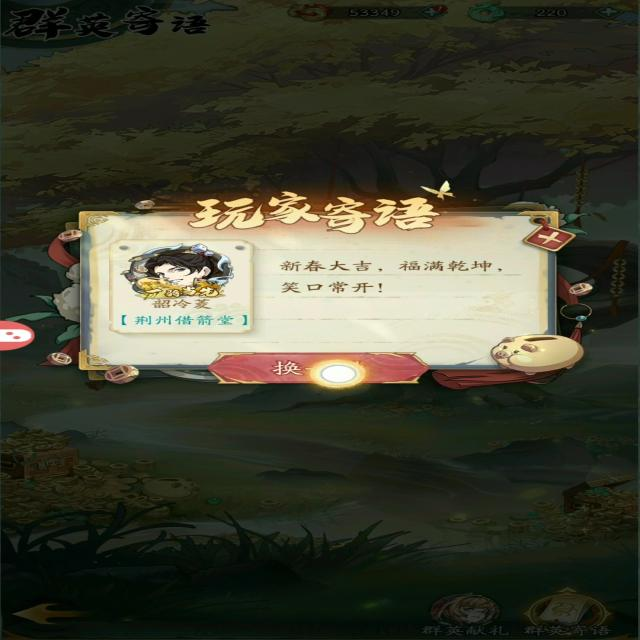operation-close: (520, 221, 590, 252)
operation-enter: (180, 347, 426, 392)
